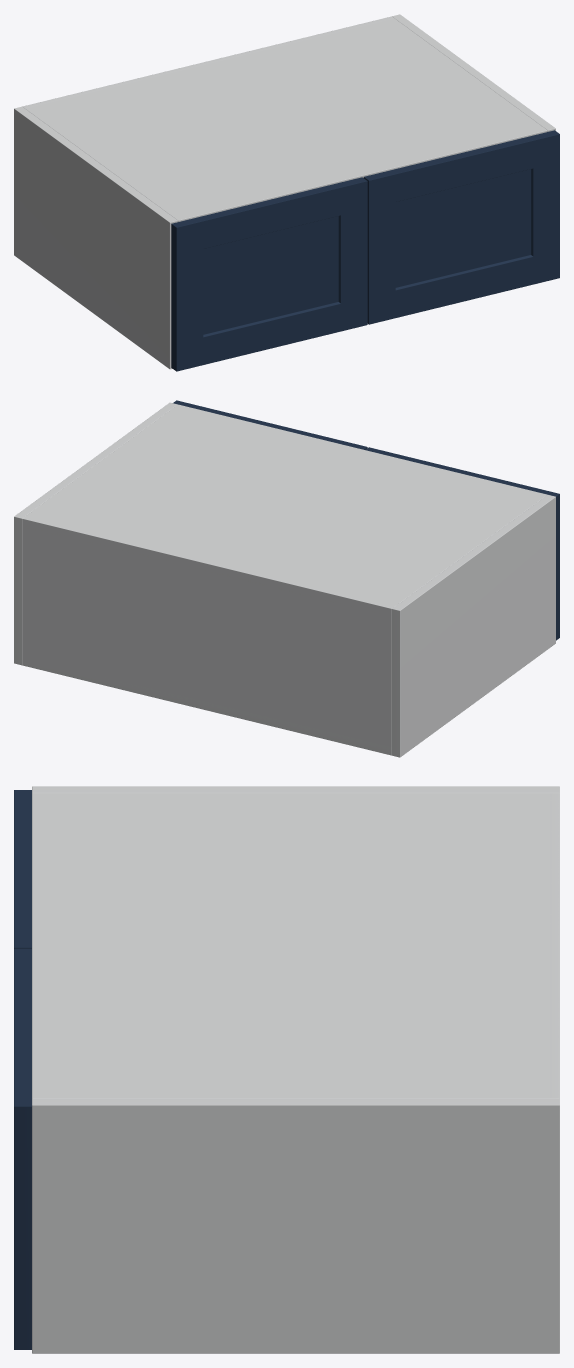
File: oppein-pb-bss-w331224.glb
3 renders of one model, top to bottom at view 1: azimuth 30°, elevation 25°; view 2: azimuth 150°, elevation 25°; view 3: azimuth 270°, elevation 25°, orthographic. The views are drawn at different scales.
Parts seen in each view (by area): view 1: Cabinet top, Door, Door.001, Cabinet side, Cabinet side.001, Cabinet back; view 2: Cabinet top, Cabinet back, Cabinet side, Cabinet side.001, Cabinet bottom, Door, Door.001; view 3: Cabinet top, Cabinet side.001, Door.001, Cabinet side, Cabinet back, Door.
Part boxes in pixels (x1,y1,x2,y2): Cabinet top: (25,17,547,221); Door: (171,177,367,371); Door.001: (363,130,559,324); Cabinet side: (14,106,177,369); Cabinet side.001: (392,14,555,131); Cabinet back: (22,16,394,108); Cabinet top: (22,404,547,613); Cabinet back: (22,516,394,755); Cabinet side: (392,495,555,757); Cabinet side.001: (14,402,177,665); Cabinet bottom: (22,664,391,755); Door: (365,447,559,640); Door.001: (173,400,367,449); Cabinet top: (32,793,559,1098); Cabinet side.001: (32,1098,559,1353); Door.001: (14,948,31,1349); Cabinet side: (32,786,559,793); Cabinet back: (549,793,559,1098); Door: (14,790,31,948).
Bounding box in the file's own units: 0.8382 × 0.3048 × 0.6064.
